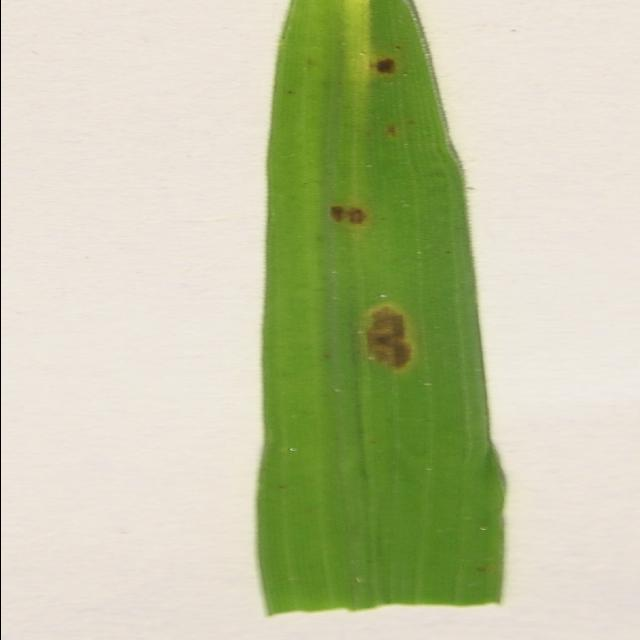Unhealthy: (355, 302, 420, 376), (324, 202, 380, 229), (369, 52, 403, 78), (383, 122, 402, 140)
